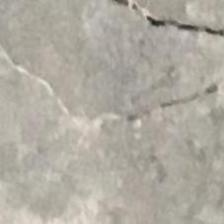Crack: (3, 1, 223, 224)
